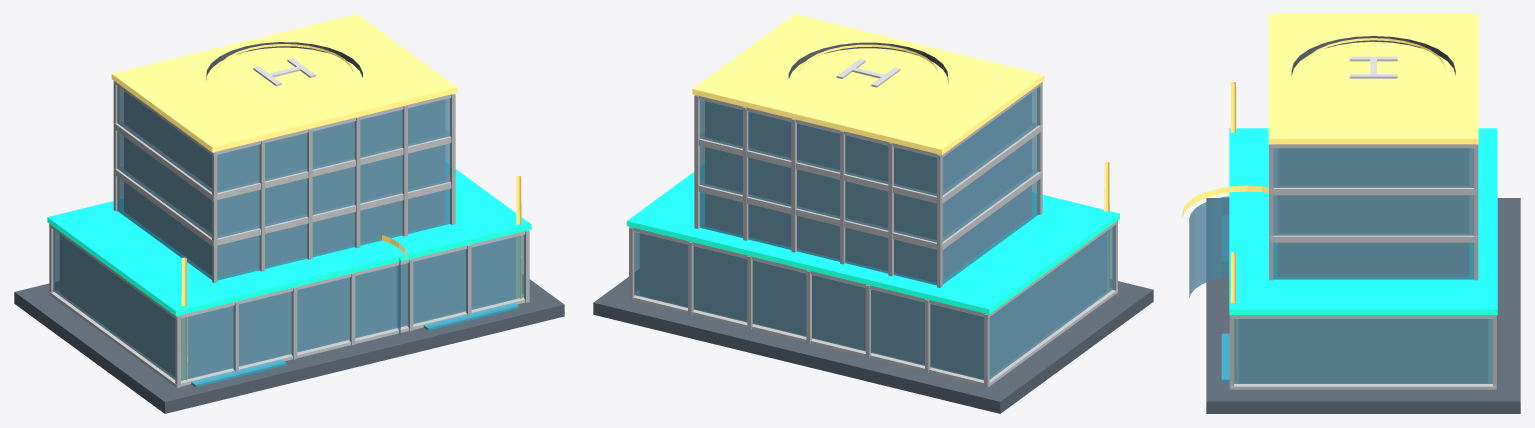
Rendered from club_hq_operations.glb.
3 views of the same model, side by side, from view 1: azimuth 30°, elevation 25°; view 2: azimuth 150°, elevation 25°; view 3: azimuth 270°, elevation 25° (orthographic). The views are drawn at different scales.
Visible parts, largest first — view 1: club_hq_operations; view 2: club_hq_operations; view 3: club_hq_operations.
Boxes of the visible parts, x1,y1,x2,y2 form: club_hq_operations: (14, 14, 564, 413); club_hq_operations: (593, 14, 1153, 413); club_hq_operations: (1182, 14, 1520, 413).
Size of the model in its own units: 2.82 by 1.59 by 1.98.
